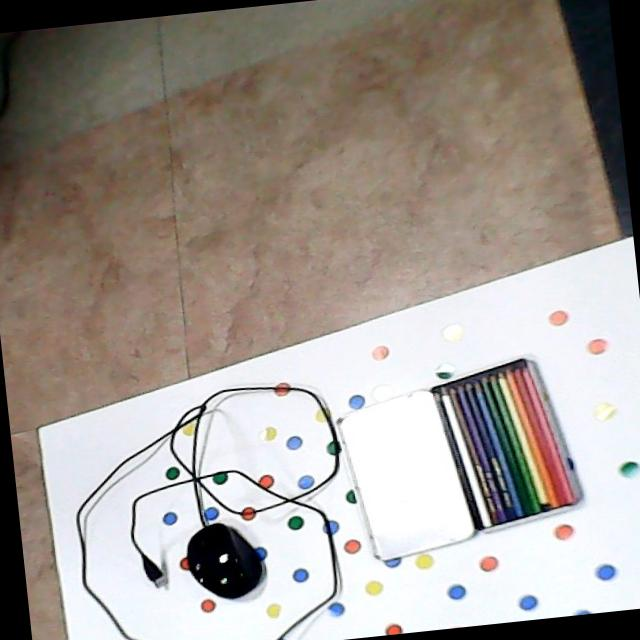color: (424, 344, 588, 537)
mouse: (180, 514, 271, 603)
